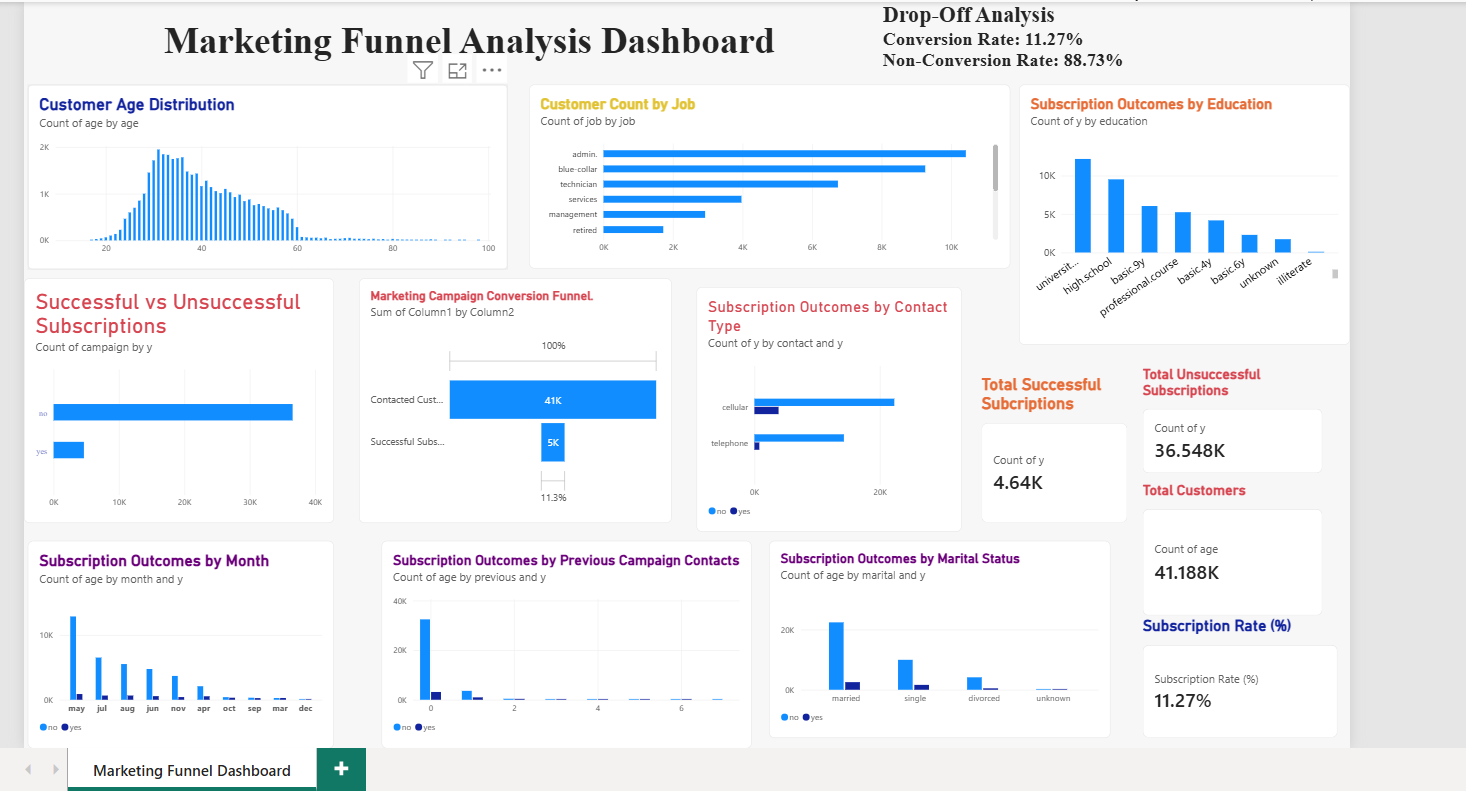

This screenshot's page, from the dashboard's own definition file:
{"tool":"powerbi","page":{"name":"Marketing Funnel Dashboard","canvas":[1920,1080],"ordinal":0},"visuals":[{"type":"clusteredColumnChart","title":"Customer Age Distribution","fields":{"Category":["bank-additional-full.age"],"Y":["CountNonNull(bank-additional-full.age)"]},"box":[5.4,119.4,694.9,267.8],"z":1000},{"type":"clusteredBarChart","title":"Successful vs Unsuccessful Subscriptions","fields":{"Category":["bank-additional-full.y"],"Y":["CountNonNull(bank-additional-full.campaign)"]},"box":[0,399.9,448.8,354.7],"z":2000},{"type":"clusteredBarChart","title":" Customer Count by Job","fields":{"Category":["bank-additional-full.job"],"Y":["CountNonNull(bank-additional-full.job)"]},"box":[731.1,119.4,696.7,266],"z":3000},{"type":"clusteredColumnChart","title":"Subscription Outcomes by Education","fields":{"Category":["bank-additional-full.education"],"Y":["CountNonNull(bank-additional-full.y)"]},"box":[1440.5,119.4,479.6,376.4],"z":4000},{"type":"clusteredBarChart","title":"Subscription Outcomes by Contact Type","fields":{"Category":["bank-additional-full.contact"],"Series":["bank-additional-full.y"],"Y":["CountNonNull(bank-additional-full.y)"]},"box":[973.6,412.6,383.6,354.7],"z":5000},{"type":"clusteredColumnChart","title":"Subscription Outcomes by Marital Status","fields":{"Category":["bank-additional-full.marital"],"Series":["bank-additional-full.y"],"Y":["CountNonNull(bank-additional-full.age)"]},"box":[1078.6,780,494,285.9],"z":6000},{"type":"clusteredColumnChart","title":"Subscription Outcomes by Month","fields":{"Category":["bank-additional-full.month"],"Series":["bank-additional-full.y"],"Y":["CountNonNull(bank-additional-full.age)"]},"box":[5.4,780,443.4,300.4],"z":7000},{"type":"clusteredColumnChart","title":"Subscription Outcomes by Previous Campaign Contacts","fields":{"Category":["bank-additional-full.previous"],"Series":["bank-additional-full.y"],"Y":["CountNonNull(bank-additional-full.age)"]},"box":[517.6,780,535.7,300.4],"z":8000},{"type":"cardVisual","title":"Total Successful Subcriptions","fields":{"Data":["CountNonNull(bank-additional-full.y)"]},"box":[1386.2,539.3,211.7,215.3],"z":9000},{"type":"cardVisual","title":"Total Unsuccessful Subscriptions","fields":{"Data":["CountNonNull(bank-additional-full.y)"]},"box":[1619.6,526.6,260.6,155.6],"z":9001},{"type":"cardVisual","title":"Total Customers","fields":{"Data":["CountNonNull(bank-additional-full.age)"]},"box":[1619.6,694.9,260.6,193.6],"z":9002},{"type":"cardVisual","title":"Subscription Rate (%)","fields":{"Data":["bank-additional-full.Subscription Rate (%)"]},"box":[1619.6,888.5,282.3,177.3],"z":9003},{"type":"textbox","box":[202.7,25.3,1382.6,67],"z":9004},{"type":"textbox","box":[731.1,387.3,1170.9,12.7],"z":9005},{"type":"funnel","title":"Marketing Campaign Conversion Funnel.","fields":{"Category":["Table.Column2"],"Y":["Sum(Table.Column1)"]},"box":[485,399.9,452.4,354.7],"z":9006},{"type":"textbox","box":[1243.2,0,437.9,119.4],"z":9007}]}

Visuals, with their boxes on the page's 1920x1080 design canvas (x1, y1, x2, y2). These are canvas units, not pixel positions in the 1466x791 screenshot, which may show the page scaled, cropped or inside an application window:
"Customer Age Distribution" clusteredColumnChart: bbox=(5, 119, 700, 387)
"Successful vs Unsuccessful Subscriptions" clusteredBarChart: bbox=(0, 400, 449, 755)
" Customer Count by Job" clusteredBarChart: bbox=(731, 119, 1428, 385)
"Subscription Outcomes by Education" clusteredColumnChart: bbox=(1440, 119, 1920, 496)
"Subscription Outcomes by Contact Type" clusteredBarChart: bbox=(974, 413, 1357, 767)
"Subscription Outcomes by Marital Status" clusteredColumnChart: bbox=(1079, 780, 1573, 1066)
"Subscription Outcomes by Month" clusteredColumnChart: bbox=(5, 780, 449, 1080)
"Subscription Outcomes by Previous Campaign Contacts" clusteredColumnChart: bbox=(518, 780, 1053, 1080)
"Total Successful Subcriptions" cardVisual: bbox=(1386, 539, 1598, 755)
"Total Unsuccessful Subscriptions" cardVisual: bbox=(1620, 527, 1880, 682)
"Total Customers" cardVisual: bbox=(1620, 695, 1880, 888)
"Subscription Rate (%)" cardVisual: bbox=(1620, 888, 1902, 1066)
textbox: bbox=(203, 25, 1585, 92)
textbox: bbox=(731, 387, 1902, 400)
"Marketing Campaign Conversion Funnel." funnel: bbox=(485, 400, 937, 755)
textbox: bbox=(1243, 0, 1681, 119)
